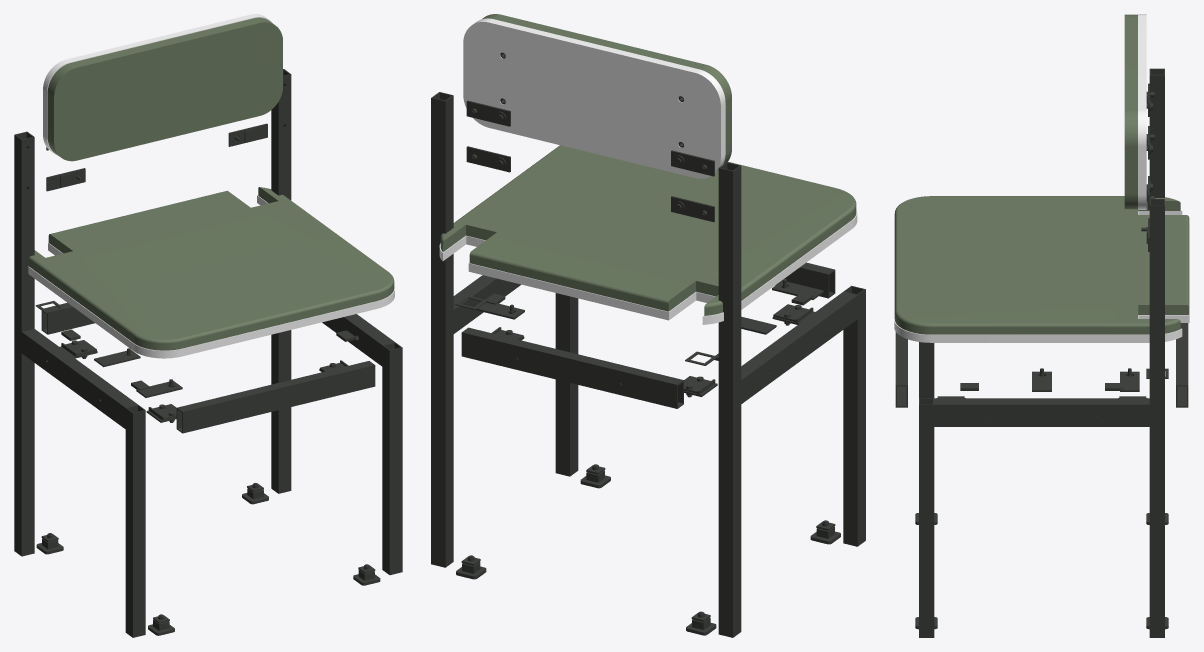
The model's file is exploded.glb.
3 views of the same model, side by side, from view 1: azimuth 30°, elevation 25°; view 2: azimuth 150°, elevation 25°; view 3: azimuth 270°, elevation 25° (orthographic). The views are drawn at different scales.
Parts seen in each view (by area): view 1: seat-upholstery-envelope, back-upholstery-envelope, leg-0-1, cross-rail-0-0, leg-1-1, leg-1-0, leg-0-0, side-rail-0-0, seat-carrier, back-carrier, side-rail-1-0, cross-rail-0-1; view 2: seat-upholstery-envelope, back-carrier, leg-0-1, leg-1-1, cross-rail-0-1, leg-0-0, side-rail-0-0, seat-carrier, leg-1-0, back-upholstery-envelope, side-rail-1-0, cross-rail-0-0 (+4 smaller); view 3: seat-upholstery-envelope, leg-1-1, side-rail-1-0, leg-1-0, seat-carrier, back-upholstery-envelope, leg-0-1, back-carrier, cross-rail-0-1, cross-rail-0-0, leg-0-0.
Boxes of the visible parts, left/top/right/bottom form: seat-upholstery-envelope: left=28, top=187, right=394, bottom=350; back-upholstery-envelope: left=47, top=17, right=282, bottom=161; leg-0-1: left=14, top=131, right=34, bottom=556; cross-rail-0-0: left=176, top=361, right=375, bottom=433; leg-1-1: left=271, top=69, right=291, bottom=493; leg-1-0: left=382, top=342, right=402, bottom=575; leg-0-0: left=125, top=405, right=145, bottom=637; side-rail-0-0: left=21, top=329, right=137, bottom=428; seat-carrier: left=28, top=195, right=394, bottom=358; back-carrier: left=43, top=14, right=272, bottom=155; side-rail-1-0: left=322, top=314, right=394, bottom=366; cross-rail-0-1: left=41, top=302, right=94, bottom=334; seat-upholstery-envelope: left=440, top=145, right=856, bottom=315; back-carrier: left=463, top=18, right=725, bottom=178; leg-0-1: left=718, top=162, right=741, bottom=637; leg-1-1: left=431, top=92, right=453, bottom=567; cross-rail-0-1: left=461, top=327, right=683, bottom=408; leg-0-0: left=843, top=285, right=865, bottom=546; side-rail-0-0: left=741, top=292, right=857, bottom=403; seat-carrier: left=439, top=209, right=857, bottom=324; leg-1-0: left=555, top=293, right=578, bottom=476; back-upholstery-envelope: left=482, top=14, right=731, bottom=164; side-rail-1-0: left=453, top=275, right=520, bottom=333; cross-rail-0-0: left=775, top=262, right=835, bottom=298; seat-upholstery-envelope: left=894, top=196, right=1189, bottom=334; leg-1-1: left=1149, top=199, right=1164, bottom=637; side-rail-1-0: left=934, top=398, right=1149, bottom=426; leg-1-0: left=919, top=398, right=934, bottom=637; seat-carrier: left=894, top=210, right=1189, bottom=342; back-upholstery-envelope: left=1124, top=14, right=1137, bottom=209; leg-0-1: left=1149, top=68, right=1164, bottom=197; back-carrier: left=1138, top=14, right=1146, bottom=209; cross-rail-0-1: left=1176, top=323, right=1188, bottom=407; cross-rail-0-0: left=895, top=332, right=907, bottom=407; leg-0-0: left=919, top=342, right=934, bottom=398.
Bounding box in the file's own units: 0.525 × 0.9125 × 0.48.
